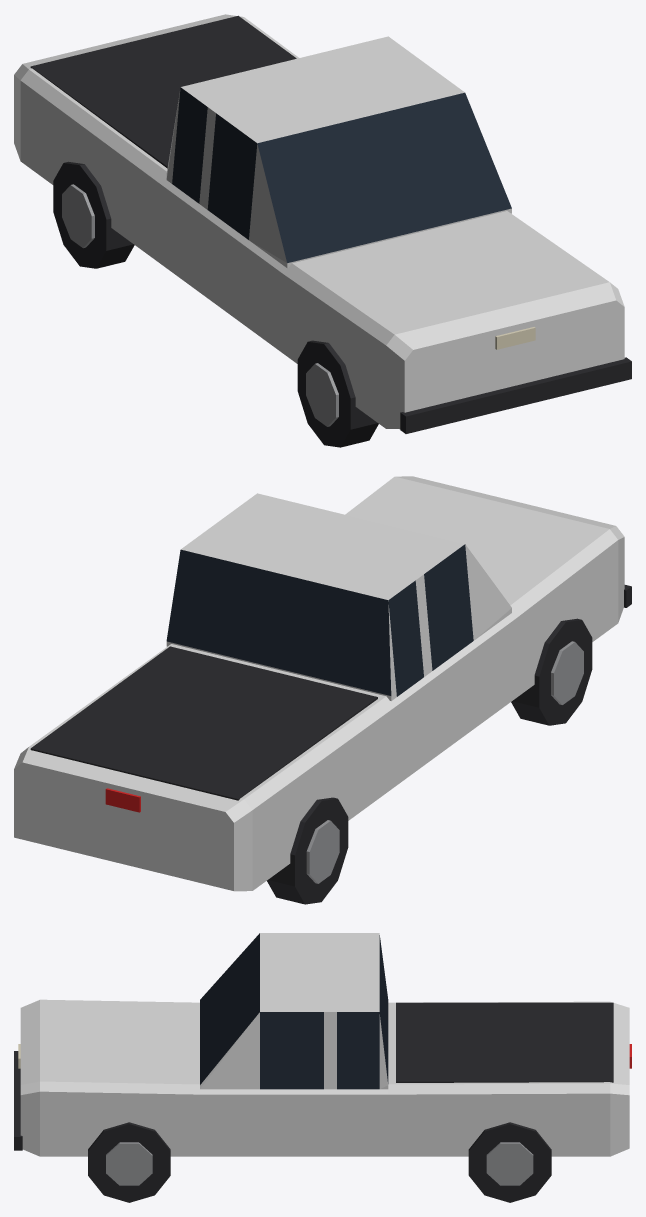
File: voiture_pickup.glb
The picture shows the model from 3 angles, top to bottom: view 1: azimuth 30°, elevation 25°; view 2: azimuth 150°, elevation 25°; view 3: azimuth 270°, elevation 25°; orthographic projection. The views are drawn at different scales.
Visible parts, largest first — view 1: voiture_pickup; view 2: voiture_pickup; view 3: voiture_pickup.
Boxes of the visible parts, x1,y1,x2,y2 form: voiture_pickup: (14, 14, 631, 447); voiture_pickup: (14, 476, 631, 904); voiture_pickup: (14, 933, 631, 1202).
Size of the model in its own units: 2.05 by 1.87 by 5.68.
